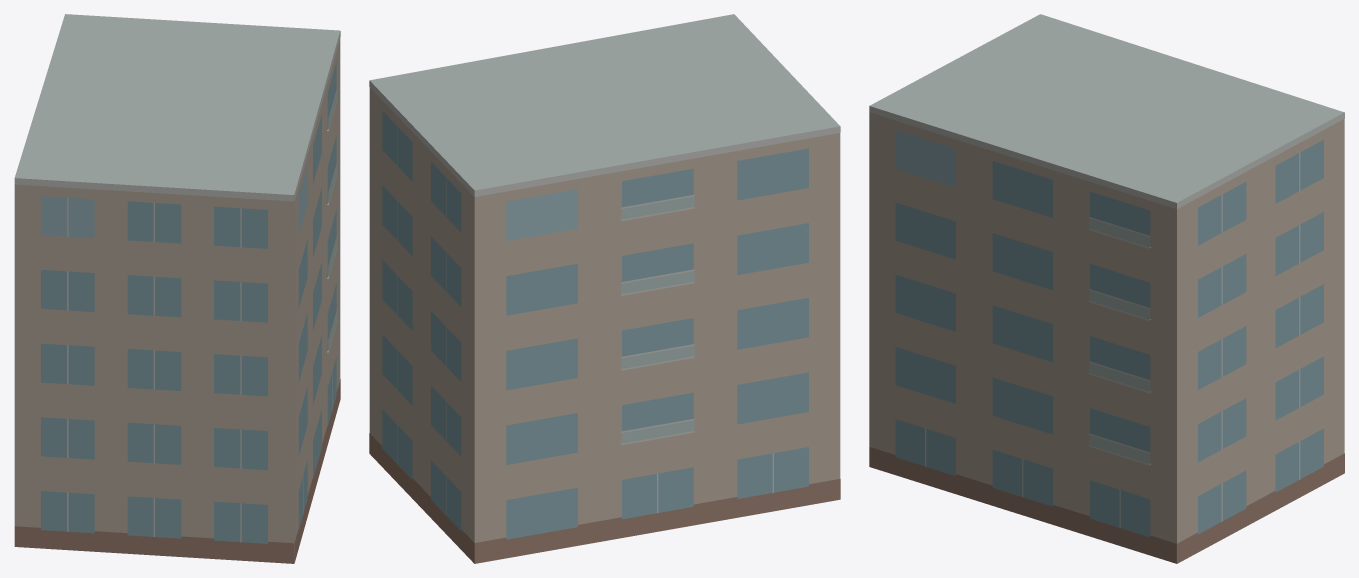
File: survey-upis-32669909.glb
The picture shows the model from 3 angles, left to right: view 1: azimuth 30°, elevation 25°; view 2: azimuth 150°, elevation 25°; view 3: azimuth 270°, elevation 25°; orthographic projection. The views are drawn at different scales.
Parts seen in each view (by area): view 1: survey-upis-32669909.tmp; view 2: survey-upis-32669909.tmp; view 3: survey-upis-32669909.tmp.
Part boxes in pixels (<box>): survey-upis-32669909.tmp: <box>14,14,340,563</box>; survey-upis-32669909.tmp: <box>369,14,840,563</box>; survey-upis-32669909.tmp: <box>869,14,1344,563</box>.
Bounding box in the file's own units: 15.78 × 14.05 × 16.78.
